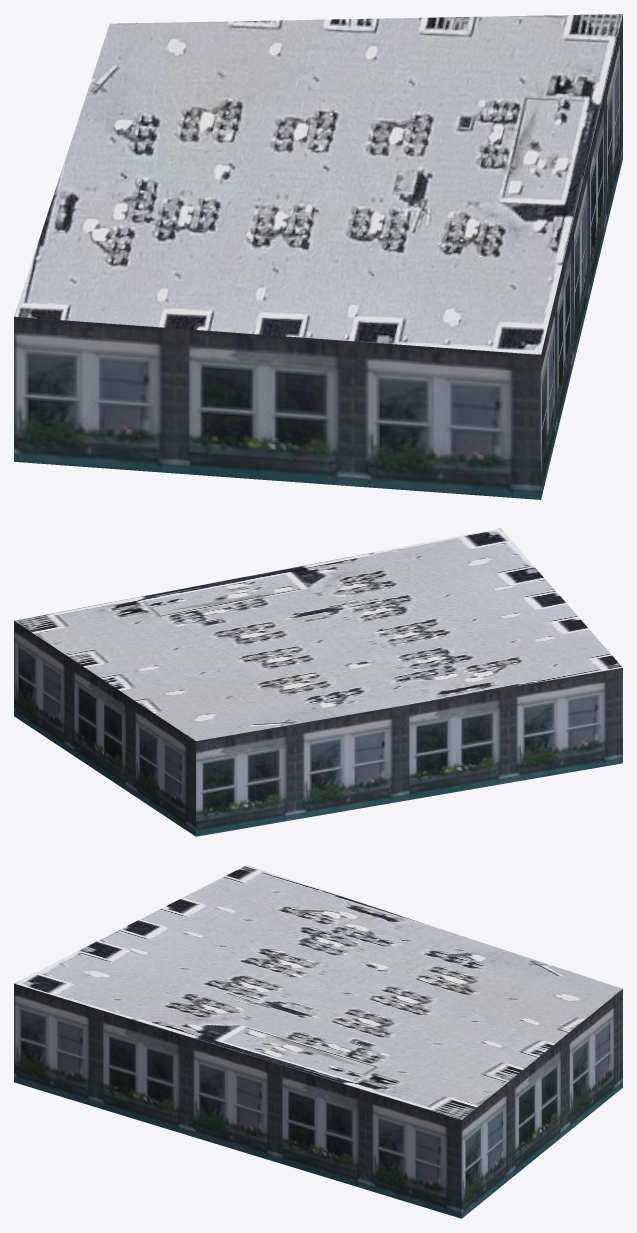
Rendered from ResTex__3314.fbx.
3 renders of one model, top to bottom at view 1: azimuth 30°, elevation 25°; view 2: azimuth 150°, elevation 25°; view 3: azimuth 270°, elevation 25°, orthographic. The views are drawn at different scales.
Parts seen in each view (by area): view 1: CityEngineMaterial_8_m, CityEngineMaterial_11_m; view 2: CityEngineMaterial_8_m, CityEngineMaterial_11_m; view 3: CityEngineMaterial_8_m, CityEngineMaterial_11_m.
Part boxes in pixels (bbox=[...]): CityEngineMaterial_8_m: bbox=[14, 14, 622, 354]; CityEngineMaterial_11_m: bbox=[14, 15, 622, 499]; CityEngineMaterial_8_m: bbox=[14, 528, 622, 740]; CityEngineMaterial_11_m: bbox=[14, 621, 622, 836]; CityEngineMaterial_8_m: bbox=[14, 865, 622, 1119]; CityEngineMaterial_11_m: bbox=[14, 983, 622, 1218].
Bounding box in the file's own units: 16.6 × 3 × 16.76.
2 materials, 2 textured.
